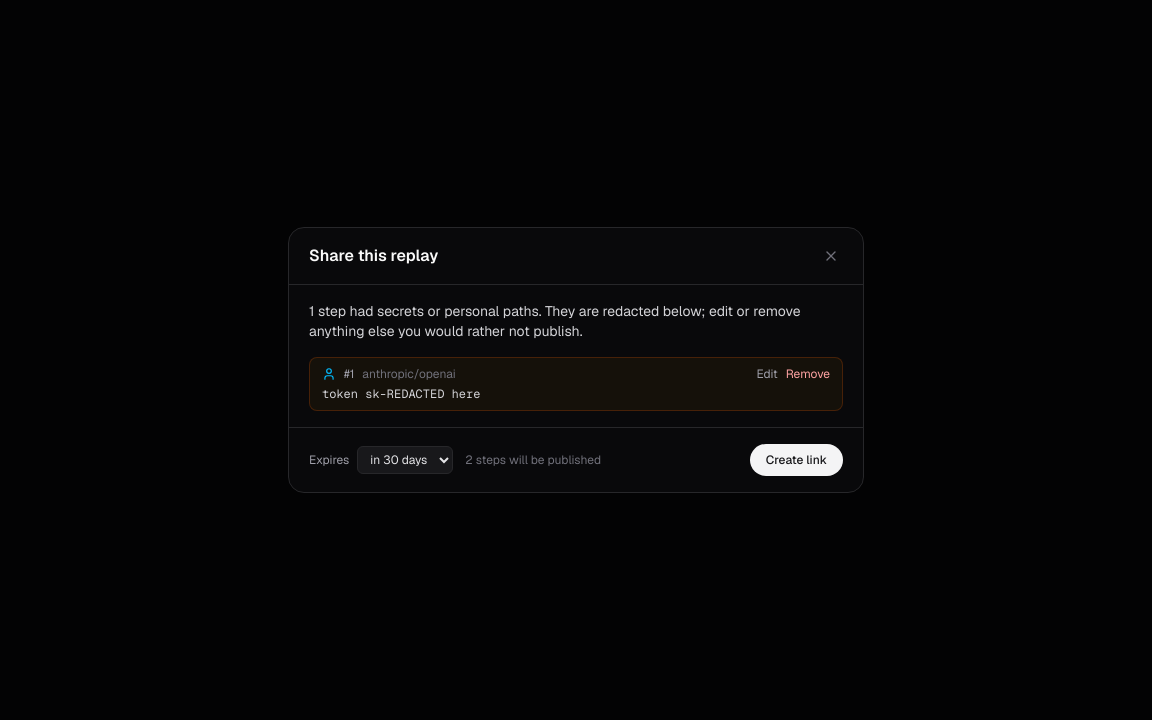
Test: ShareDialog › posts the redacted trace and shows the link
The width and height of the screenshot is (1152, 720).
What coordinates should you click on to do the following:
click the button "Create link"
I would click on:
 (796, 460)
Its box is 750,444 -> 843,476.
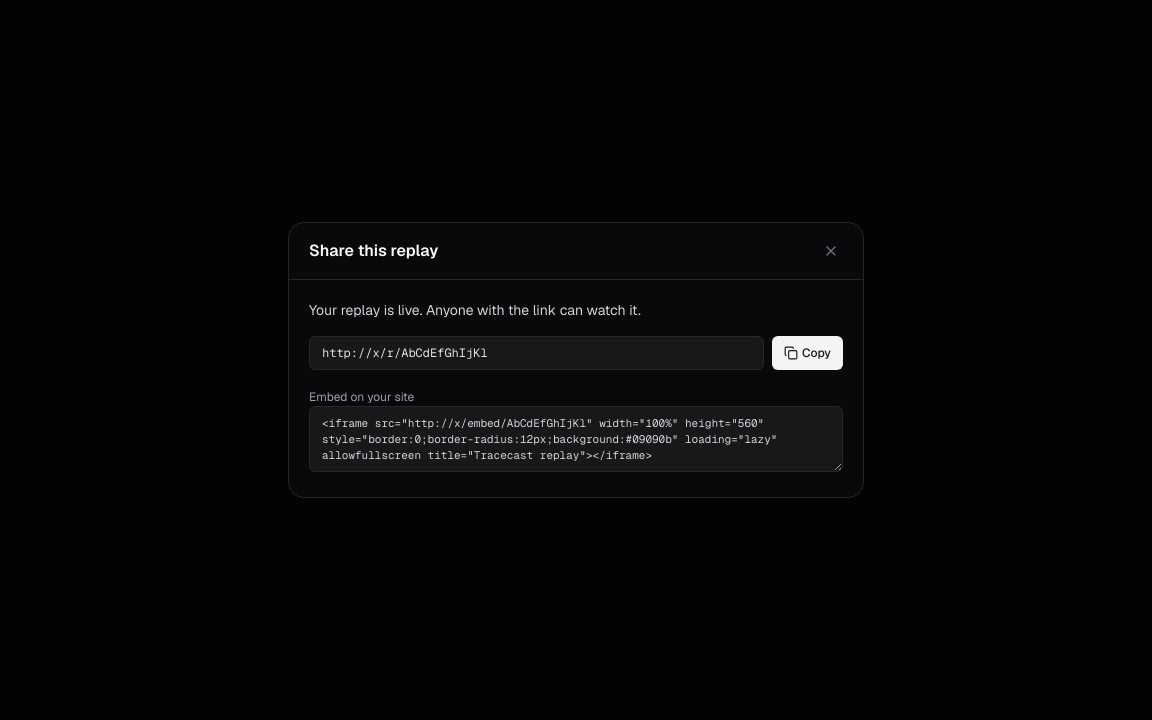
Check: the field showing "http://x/r/AbCdEfGhIjKl" is shown, box 309,336 -> 764,370
